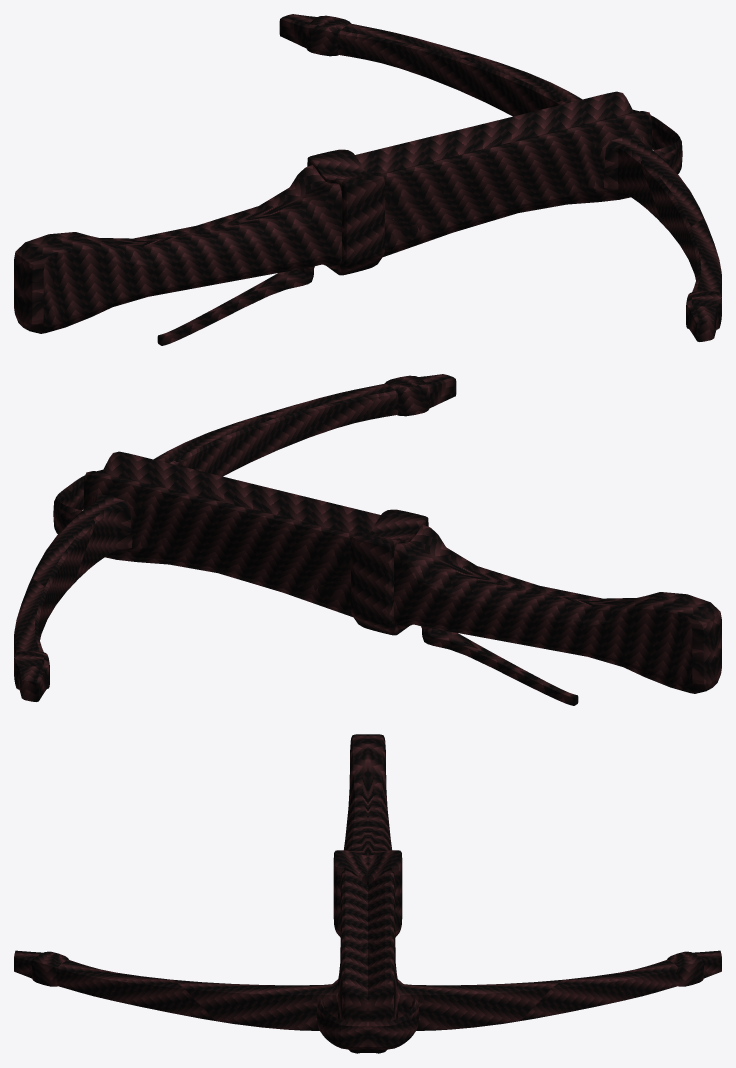
File: crossbowModernCarbonTinted.glb
3 views of the same model, one above another, from view 1: azimuth 30°, elevation 25°; view 2: azimuth 150°, elevation 25°; view 3: azimuth 270°, elevation 25° (orthographic). The views are drawn at different scales.
Parts seen in each view (by area): view 1: Crossbow Modern.002; view 2: Crossbow Modern.002; view 3: Crossbow Modern.002.
Part boxes in pixels (<box>): Crossbow Modern.002: <box>14,14,721,345</box>; Crossbow Modern.002: <box>14,374,721,705</box>; Crossbow Modern.002: <box>14,734,721,1053</box>.
Bounding box in the file's own units: 8.68 × 1.71 × 9.72.
1 material, 1 textured.
